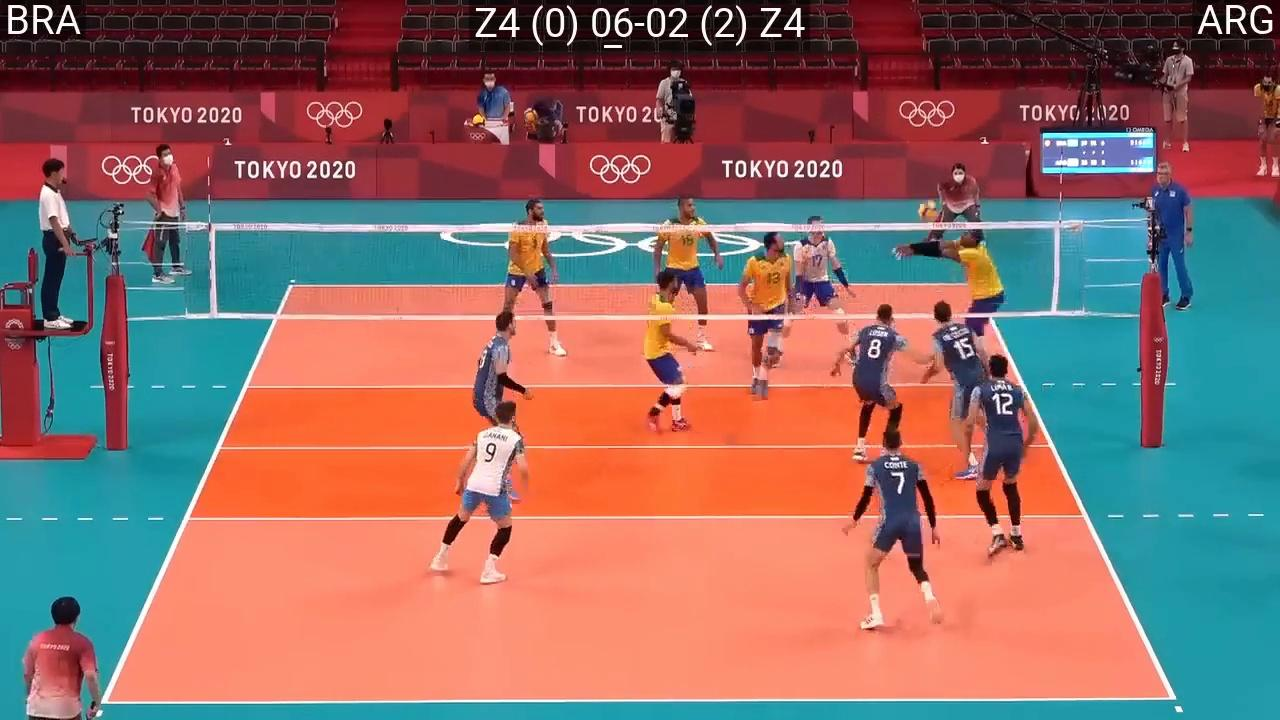ball: (917, 201, 940, 222)
